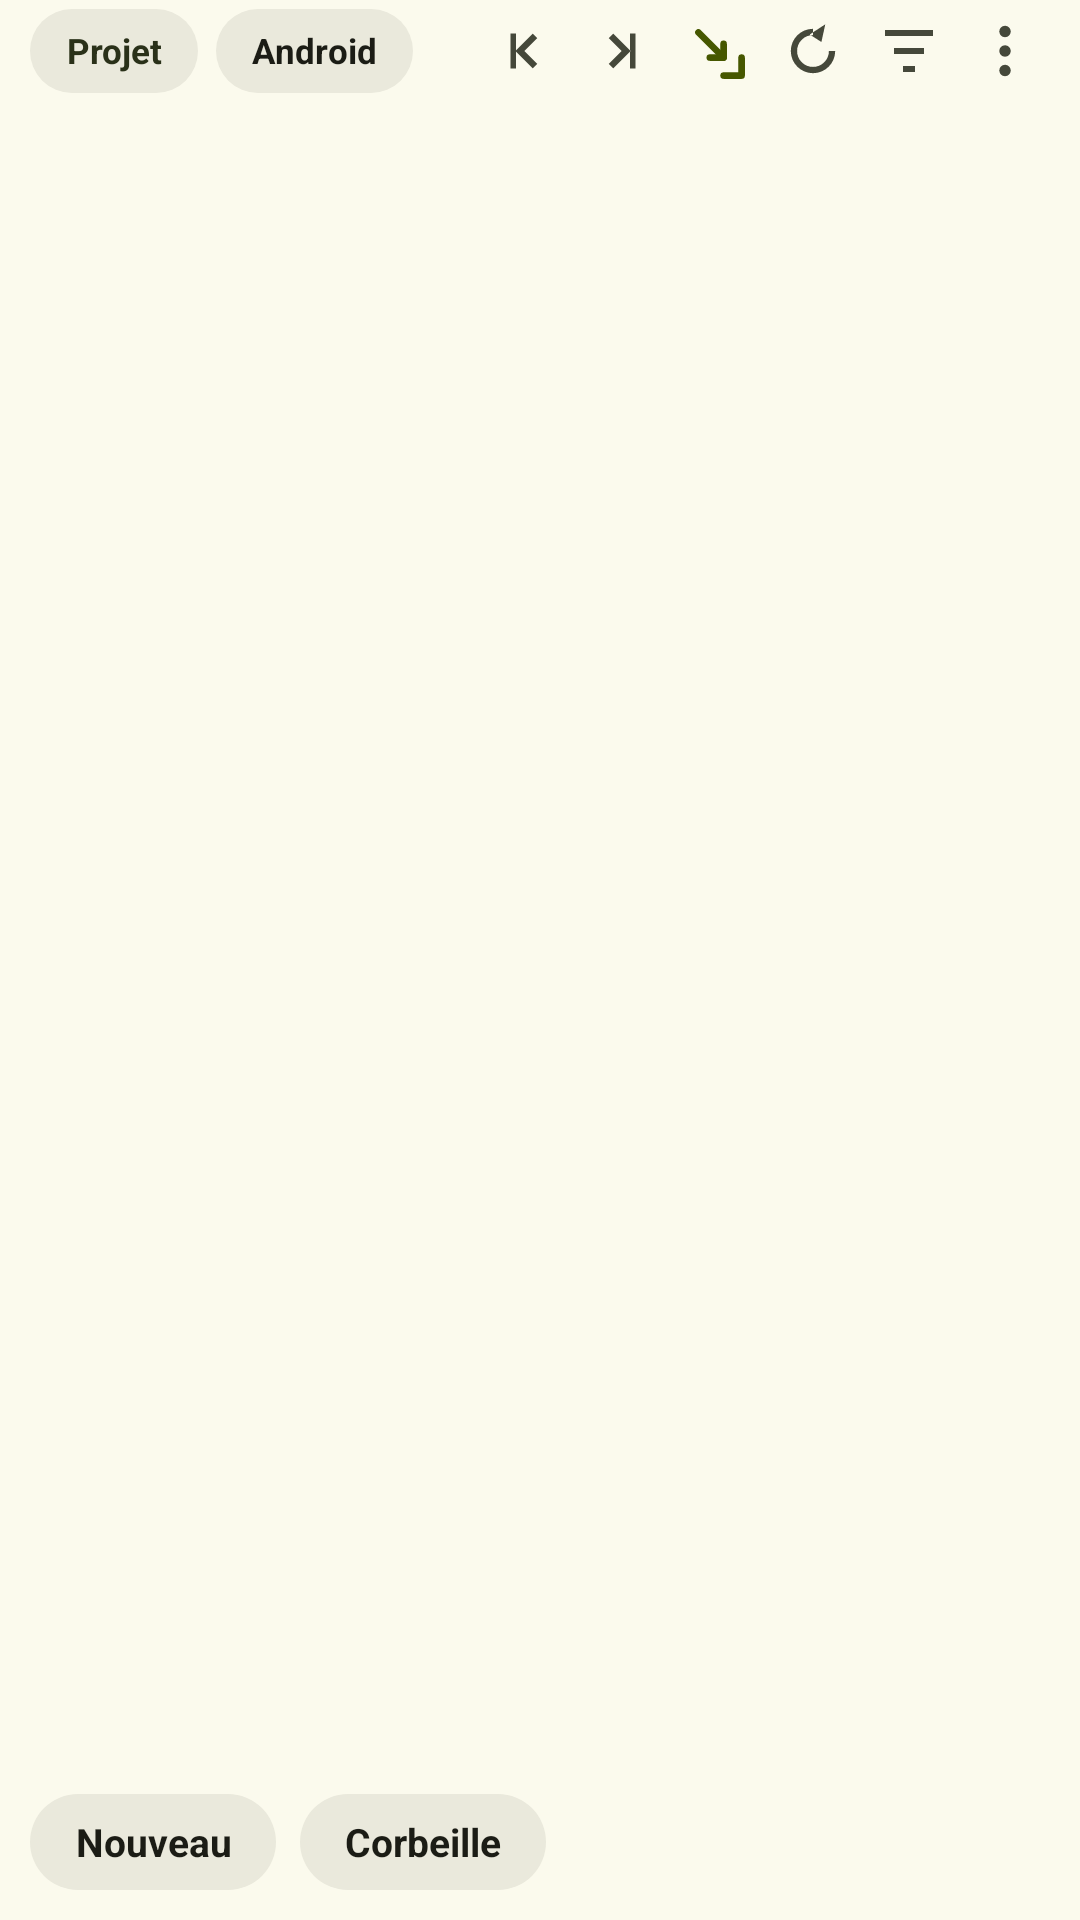

Locate icon controls on the screen. Image size 1080px x 1920px, boxes as [left=x1, top=y1, right=x2, bottom=y2].
Actualiser: [left=790, top=24, right=836, bottom=74]
Filtrer: [left=885, top=30, right=933, bottom=72]
Réglages de l'explorateur: [left=999, top=25, right=1011, bottom=76]
Suivre le fichier actif: [left=695, top=29, right=745, bottom=79]
Tout déplier: [left=609, top=33, right=636, bottom=69]
Tout replier: [left=510, top=33, right=537, bottom=69]
